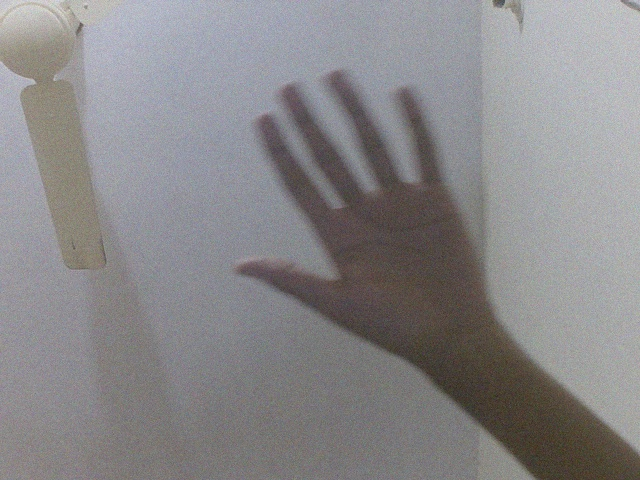hand: (219, 68, 507, 373)
